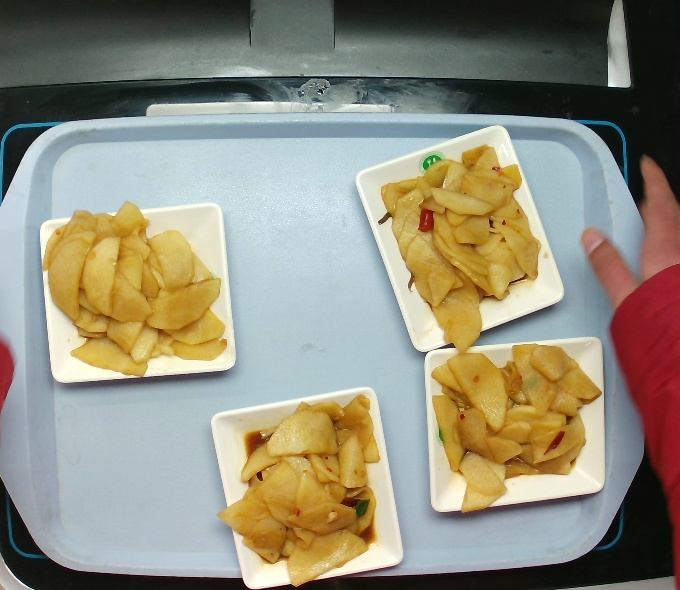wcq-YanLuoBo: (214, 395, 397, 582), (420, 330, 607, 510), (375, 148, 545, 343), (52, 196, 223, 380)
